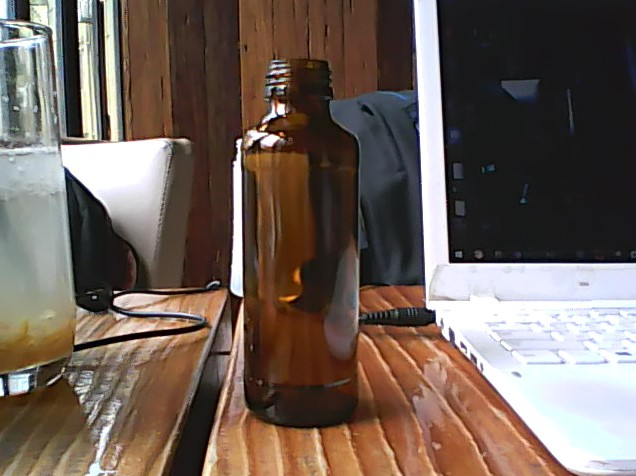Glass: (238, 55, 366, 432)
